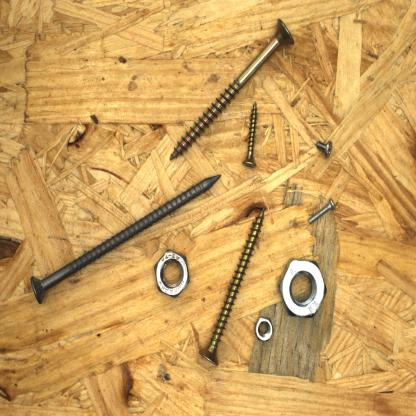screw: (27, 171, 223, 306), (166, 13, 298, 164), (198, 205, 268, 368), (240, 97, 260, 170), (307, 196, 337, 230), (314, 135, 335, 160)
